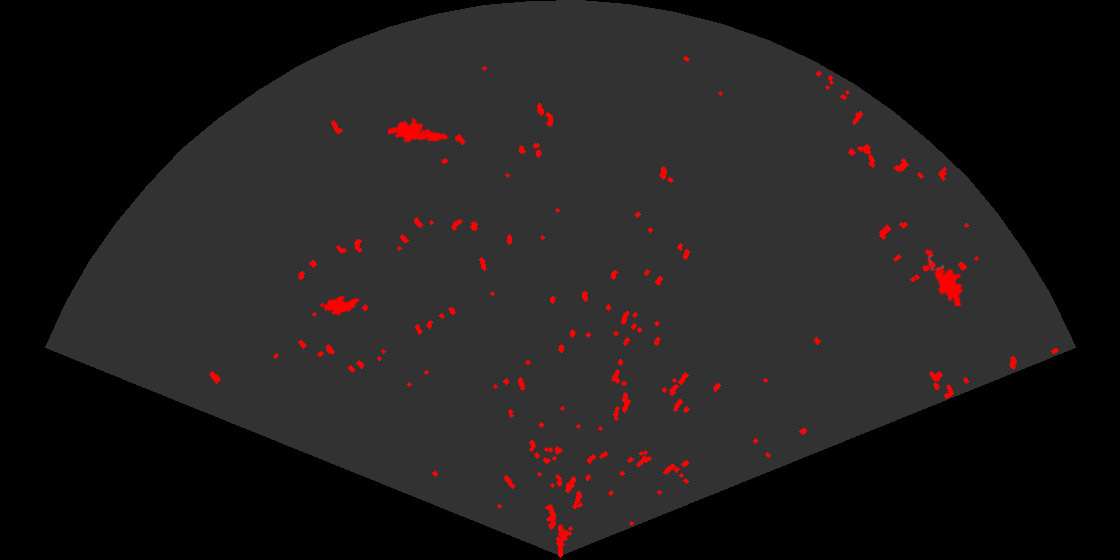AUV: (321, 294, 362, 317)
frogman: (924, 247, 965, 306), (388, 116, 449, 144)
